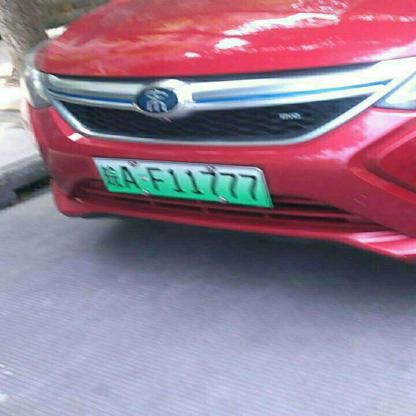lp: (94, 156, 270, 206)
